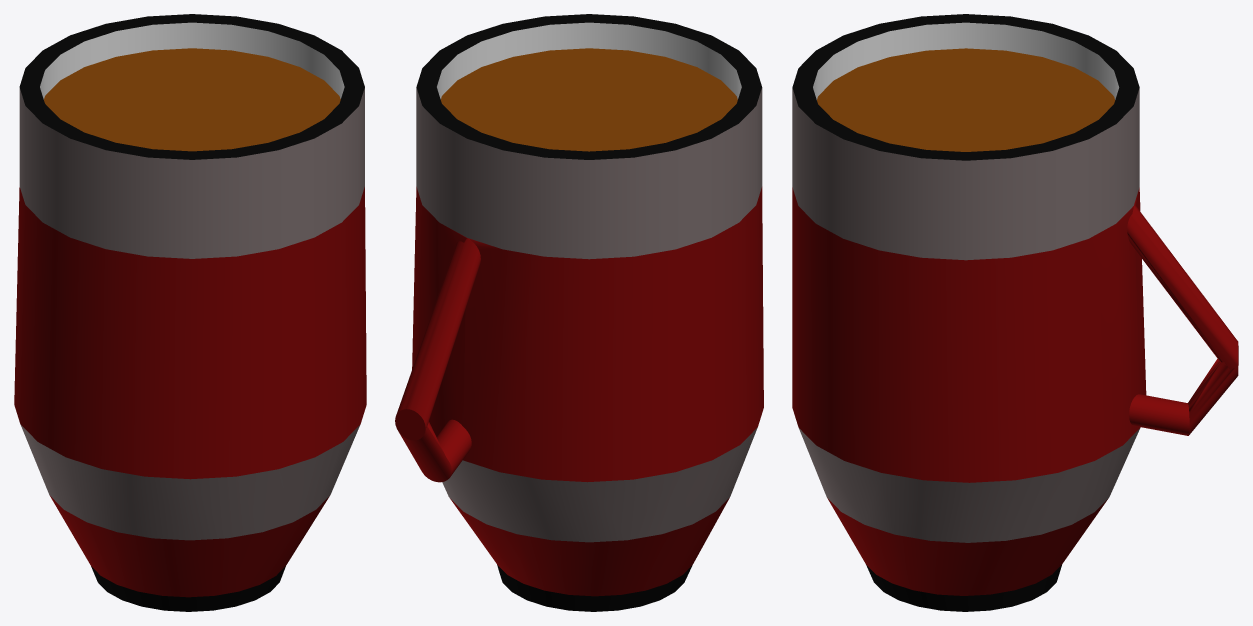
3 views of the same model, side by side, from view 1: azimuth 30°, elevation 25°; view 2: azimuth 150°, elevation 25°; view 3: azimuth 270°, elevation 25° (orthographic).
Parts seen in each view (by area): view 1: mesh1_mesh1-geometry, mesh1_mesh1-geometry_2, mesh1_mesh1-geometry_5, mesh1_mesh1-geometry_3, mesh1_mesh1-geometry_4; view 2: mesh1_mesh1-geometry, mesh1_mesh1-geometry_2, mesh1_mesh1-geometry_5, mesh1_mesh1-geometry_3, mesh1_mesh1-geometry_4; view 3: mesh1_mesh1-geometry, mesh1_mesh1-geometry_2, mesh1_mesh1-geometry_5, mesh1_mesh1-geometry_3, mesh1_mesh1-geometry_4.
Part boxes in pixels (x1,y1,x2,y2): mesh1_mesh1-geometry: (14,187,366,597); mesh1_mesh1-geometry_2: (19,88,364,540); mesh1_mesh1-geometry_5: (44,48,340,151); mesh1_mesh1-geometry_3: (19,14,364,611); mesh1_mesh1-geometry_4: (40,22,344,99); mesh1_mesh1-geometry: (395,186,763,596); mesh1_mesh1-geometry_2: (416,87,762,542); mesh1_mesh1-geometry_5: (441,48,737,151); mesh1_mesh1-geometry_3: (416,14,761,611); mesh1_mesh1-geometry_4: (437,22,741,99); mesh1_mesh1-geometry: (792,187,1238,595); mesh1_mesh1-geometry_2: (792,88,1140,542); mesh1_mesh1-geometry_5: (817,48,1115,151); mesh1_mesh1-geometry_3: (792,14,1139,611); mesh1_mesh1-geometry_4: (813,22,1119,99).
Bounding box in the file's own units: 0.4526 × 0.6858 × 0.5699.
